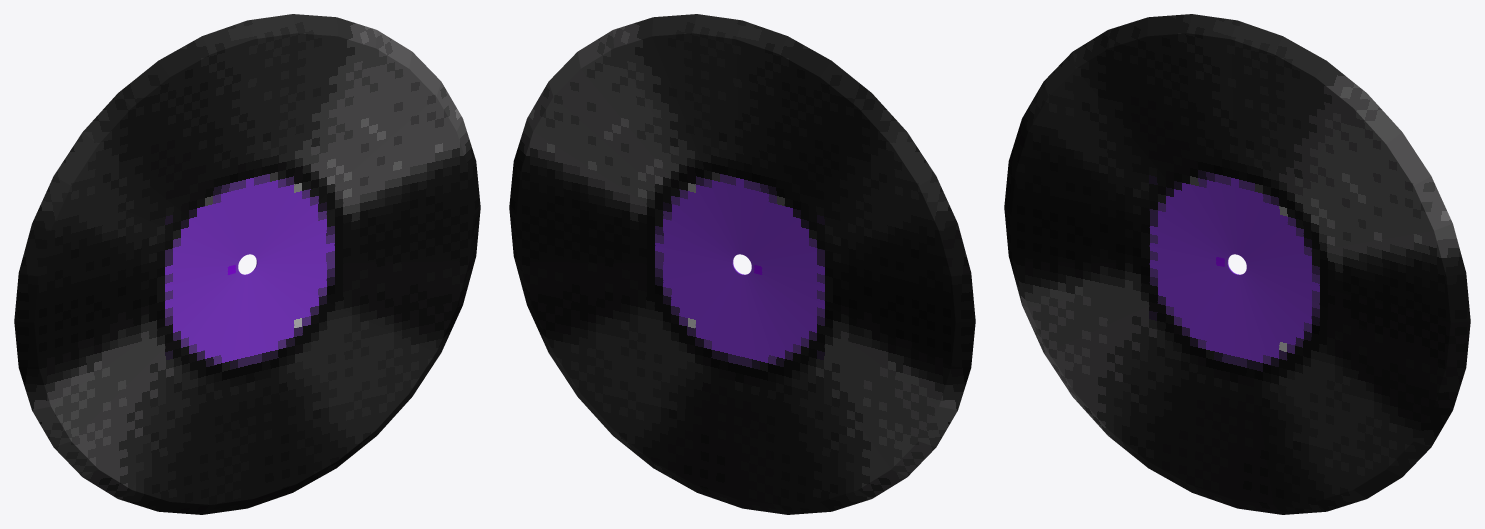
Rendered from Record_Purple.glb.
3 renders of one model, left to right at view 1: azimuth 30°, elevation 25°; view 2: azimuth 150°, elevation 25°; view 3: azimuth 330°, elevation 25°, orthographic.
Parts seen in each view (by area): view 1: Cylinder.004; view 2: Cylinder.004; view 3: Cylinder.004.
Boxes of the visible parts, x1,y1,x2,y2 form: Cylinder.004: (14, 14, 480, 514); Cylinder.004: (509, 14, 975, 514); Cylinder.004: (1004, 14, 1470, 514).
Bounding box in the file's own units: 2.12 × 2.12 × 0.1009.
1 material, 1 textured.
